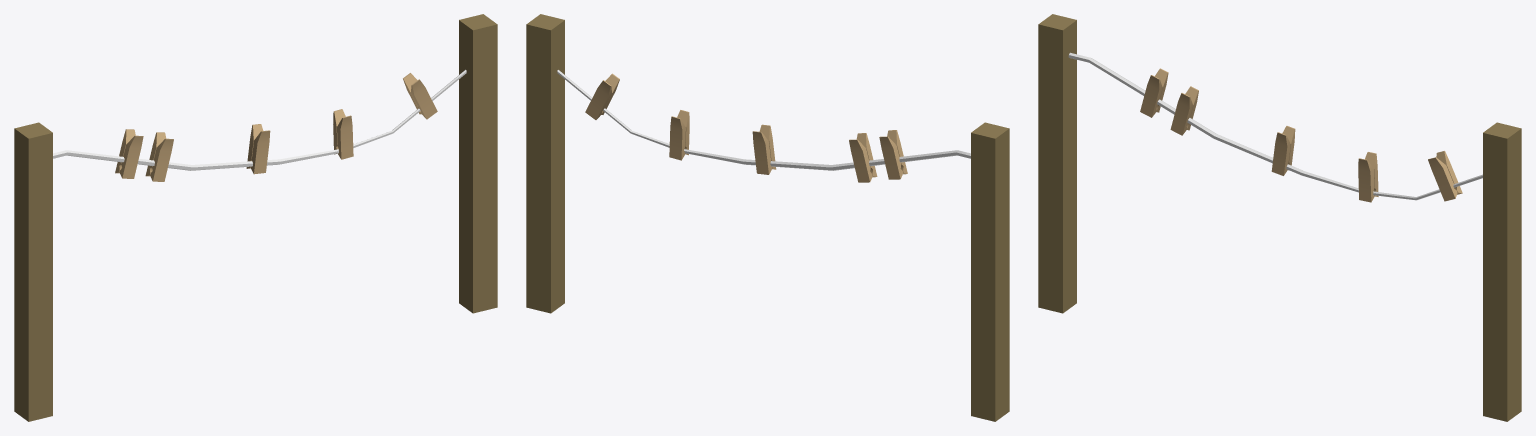
Rendered from clothesline 1.fbx.
The picture shows the model from 3 angles, left to right: view 1: azimuth 30°, elevation 25°; view 2: azimuth 150°, elevation 25°; view 3: azimuth 330°, elevation 25°; orthographic projection.
Parts seen in each view (by area): view 1: clothesline; view 2: clothesline; view 3: clothesline.
Boxes of the visible parts, x1=… form: clothesline: x1=14, y1=14, x2=497, y2=421; clothesline: x1=526, y1=14, x2=1009, y2=421; clothesline: x1=1038, y1=14, x2=1521, y2=421.
Size of the model in its own units: 4.61 by 2.66 by 0.2415.
